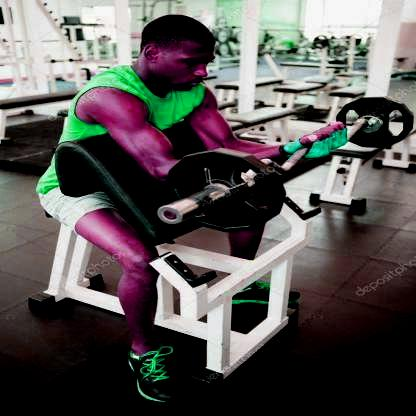Barbell: (151, 199, 186, 228)
